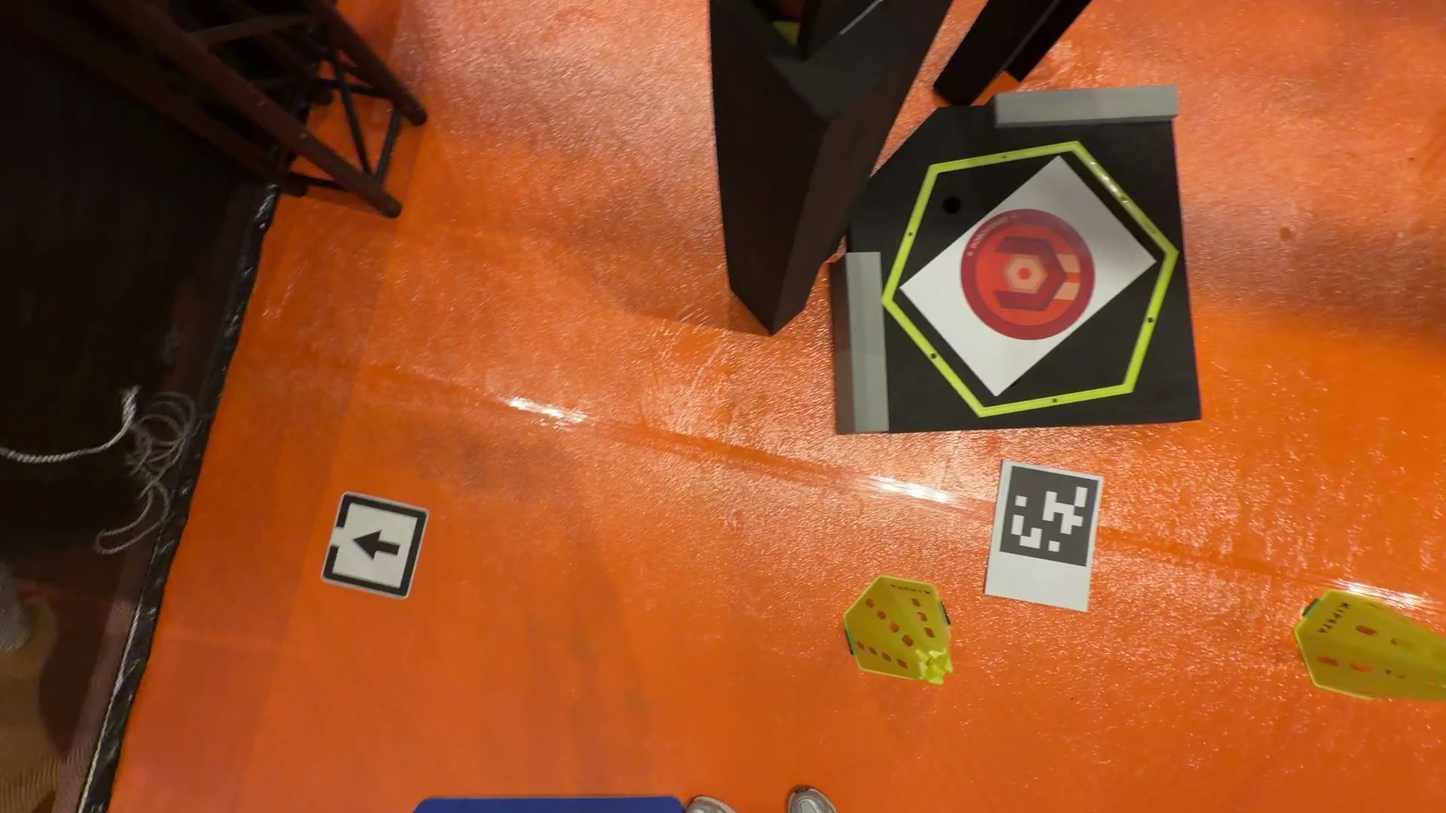landing_pad: (959, 209, 1097, 343)
